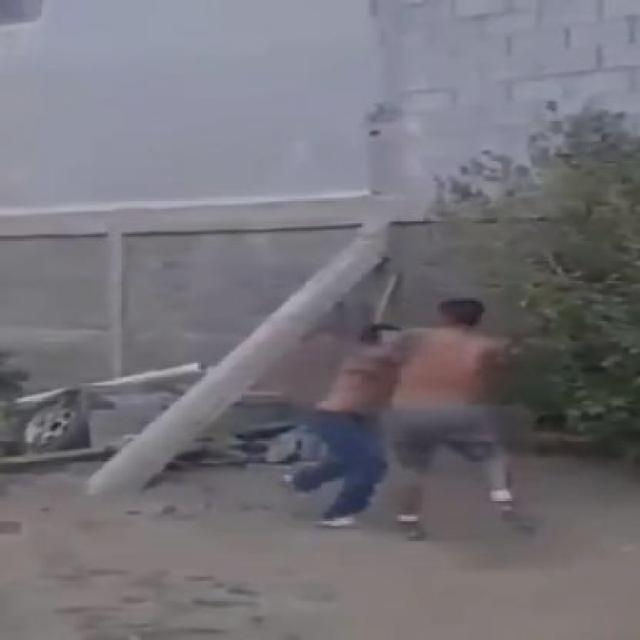fight: (287, 280, 545, 542)
